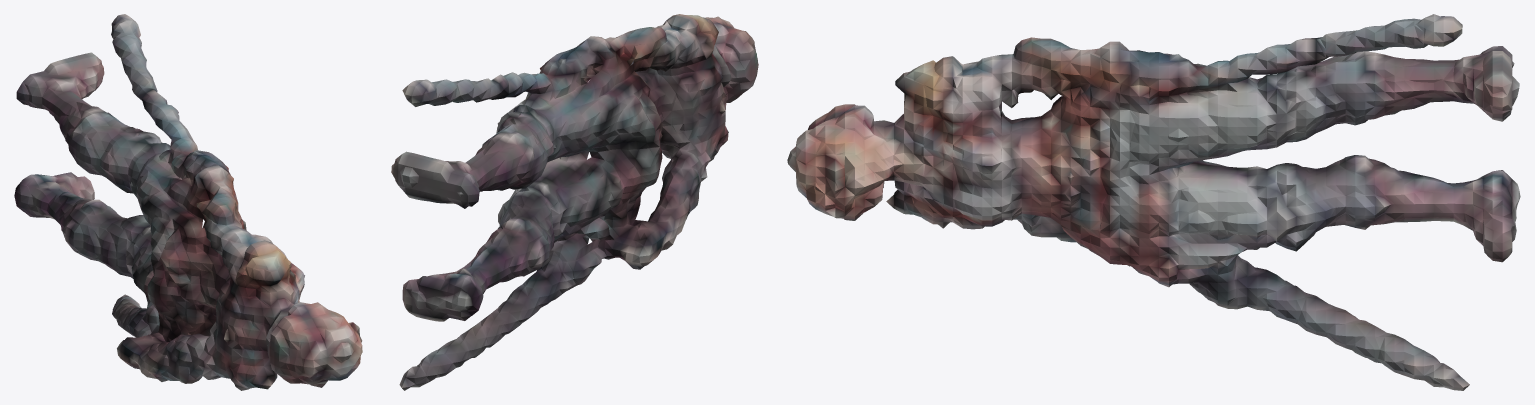
Rendered from modern_warrior_f_0.glb.
3 views of the same model, side by side, from view 1: azimuth 30°, elevation 25°; view 2: azimuth 150°, elevation 25°; view 3: azimuth 270°, elevation 25° (orthographic). The views are drawn at different scales.
Visible parts, largest first — view 1: world; view 2: world; view 3: world.
Boxes of the visible parts, x1,y1,x2,y2 form: world: (14,14,362,390); world: (391,14,758,390); world: (787,14,1520,390).
Size of the model in its own units: 0.26 by 0.5718 by 1.02.
